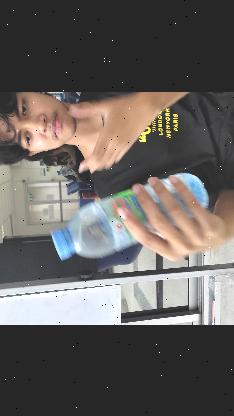Plastic Bottle: (47, 166, 213, 262)
